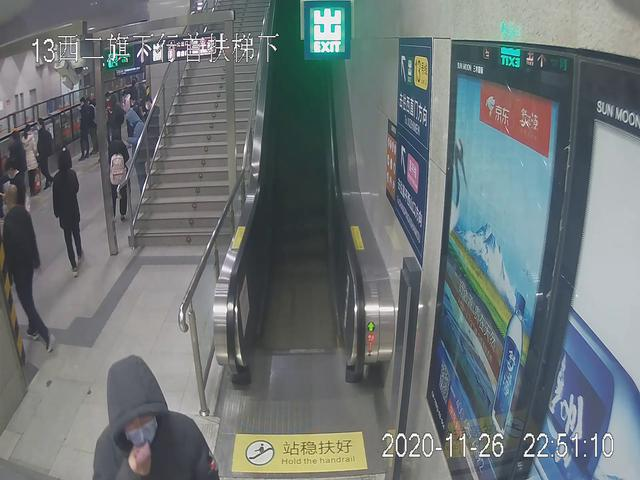person: (83, 353, 231, 480), (5, 181, 63, 347), (50, 143, 86, 270), (107, 121, 128, 222), (36, 116, 52, 195), (22, 124, 38, 186)
